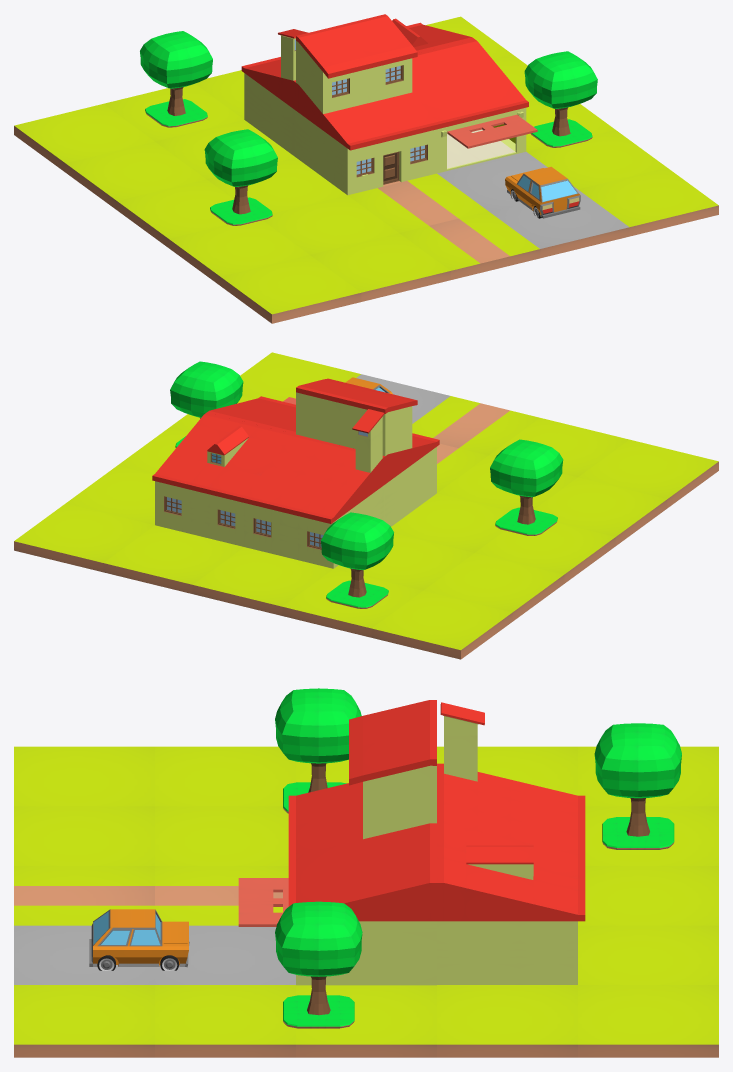
File: Toy House.glb
3 views of the same model, one above another, from view 1: azimuth 30°, elevation 25°; view 2: azimuth 150°, elevation 25°; view 3: azimuth 270°, elevation 25° (orthographic). The views are drawn at different scales.
Parts seen in each view (by area): view 1: ground, rooftop_2nd_floor, rooftop, door_and_windows, tree_2, tree, tree_1, car, garage, foor_windows, rooftop_chimney, garage_door (+1 smaller); view 2: ground, rooftop_chimney, rooftop_window, rooftop_2nd_floor, tree_2, tree, foor_windows, two_windows, tree_1, door_and_windows, rooftop; view 3: ground, rooftop_2nd_floor, rooftop_window, rooftop_chimney, rooftop, two_windows, tree_1, tree_2, tree, garage, car, garage_door.
Boxes of the visible parts, x1,y1,x2,y2 form: ground: (14, 16, 718, 323); rooftop_2nd_floor: (296, 14, 439, 150); rooftop: (412, 39, 528, 128); door_and_windows: (296, 111, 436, 195); tree_2: (140, 31, 212, 127); tree: (204, 129, 277, 225); tree_1: (524, 51, 597, 147); car: (505, 166, 580, 218); garage: (437, 107, 526, 173); foor_windows: (244, 73, 295, 157); rooftop_chimney: (241, 29, 308, 110); garage_door: (447, 114, 537, 148); ground: (14, 352, 718, 659); rooftop_chimney: (241, 409, 385, 523); rooftop_window: (152, 412, 295, 502); rooftop_2nd_floor: (296, 378, 439, 483); tree_2: (321, 512, 393, 608); tree: (490, 439, 563, 535); foor_windows: (244, 485, 385, 568); two_windows: (155, 481, 244, 546); tree_1: (170, 361, 243, 447); door_and_windows: (385, 447, 436, 526); rooftop: (207, 396, 295, 434); ground: (14, 746, 718, 1057); rooftop_2nd_floor: (288, 700, 436, 855); rooftop_window: (437, 823, 585, 921); rooftop_chimney: (437, 702, 585, 855); rooftop: (288, 823, 436, 921); two_windows: (437, 921, 577, 984); tree_1: (275, 901, 362, 1028); tree_2: (594, 723, 681, 849); tree: (275, 688, 361, 813); garage: (296, 921, 436, 985); car: (89, 909, 189, 970); garage_door: (238, 878, 288, 926).
Bounding box in the file's own units: 10 × 2.8 × 10.
Materials: 1 (1 with a texture image).
